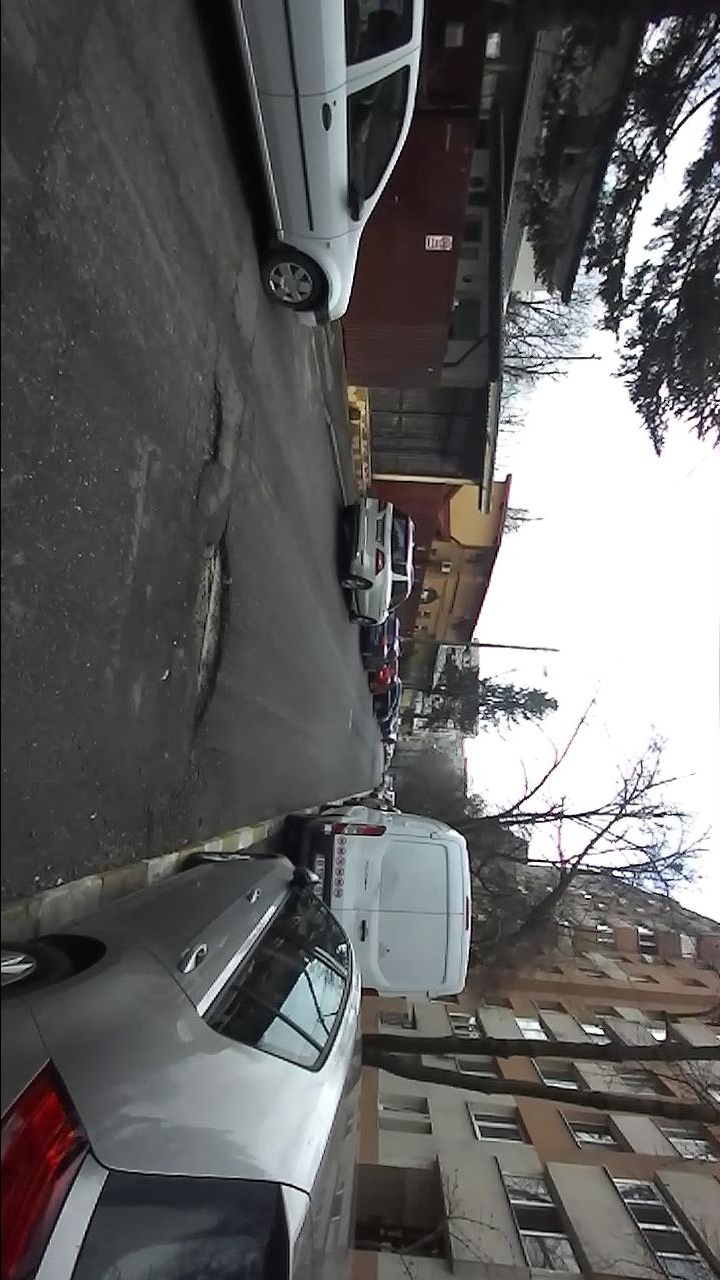pothole: (181, 510, 236, 747), (191, 371, 226, 504)
